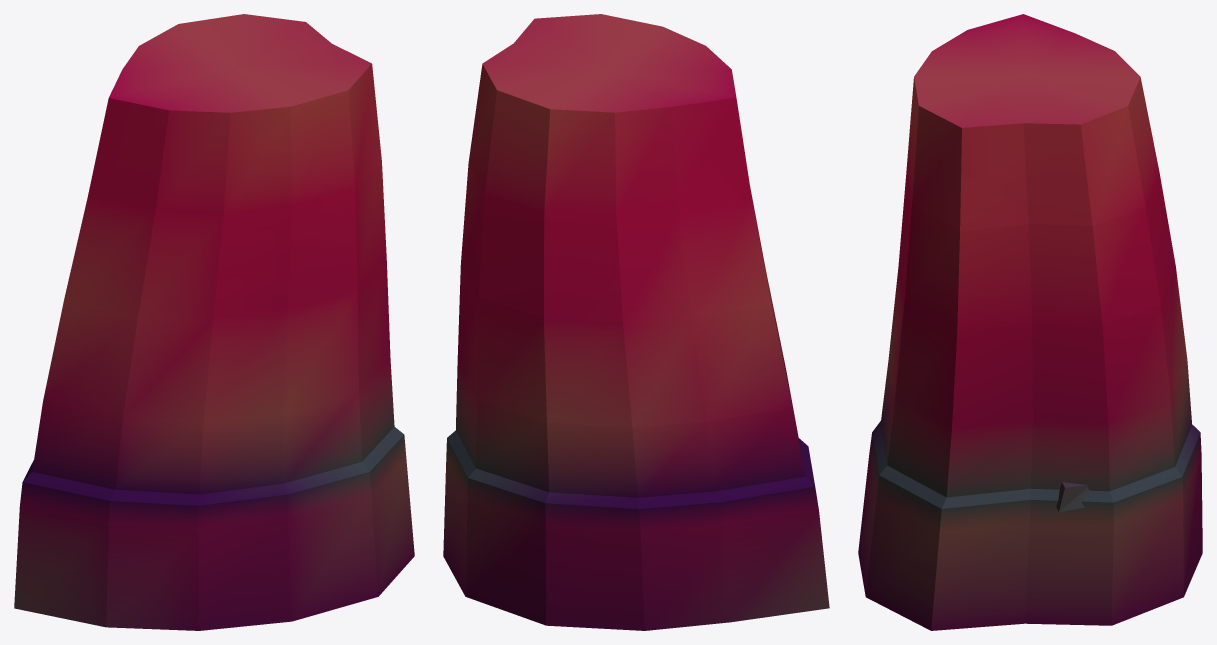
Rendered from SM_CinderCanyon_Rock_E_LOD2.fbx.
3 views of the same model, side by side, from view 1: azimuth 30°, elevation 25°; view 2: azimuth 150°, elevation 25°; view 3: azimuth 270°, elevation 25° (orthographic).
Parts seen in each view (by area): view 1: SM_CinderCanyon_Rock_E_LOD2; view 2: SM_CinderCanyon_Rock_E_LOD2; view 3: SM_CinderCanyon_Rock_E_LOD2.
Boxes of the visible parts, x1,y1,x2,y2 form: SM_CinderCanyon_Rock_E_LOD2: [14, 14, 414, 630]; SM_CinderCanyon_Rock_E_LOD2: [443, 14, 829, 630]; SM_CinderCanyon_Rock_E_LOD2: [858, 14, 1202, 630].
Bounding box in the file's own units: 100 × 84 × 132.
